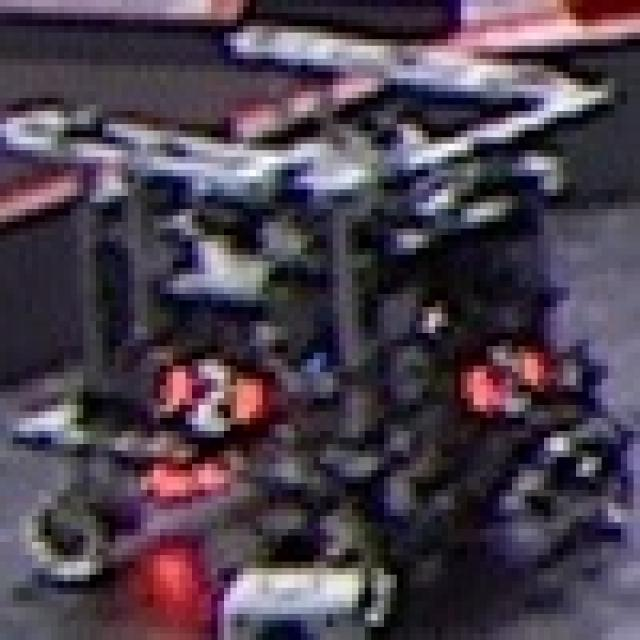R2: (154, 346, 262, 431), (461, 346, 544, 418)
